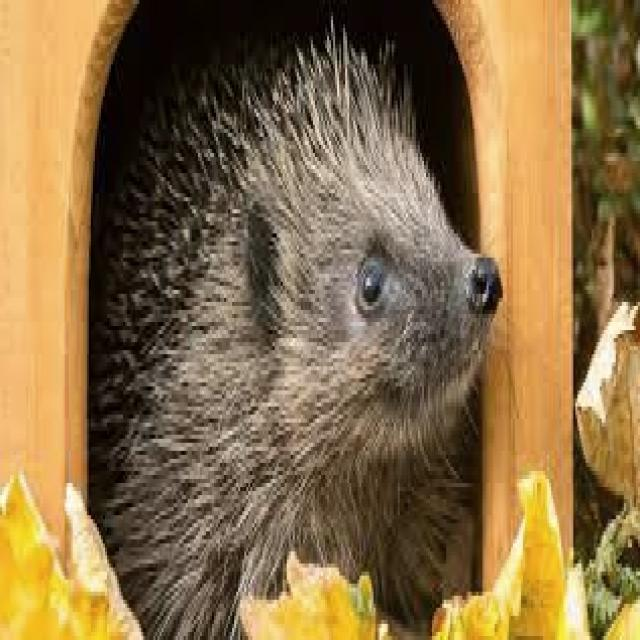hedgehog: (93, 20, 501, 636)
